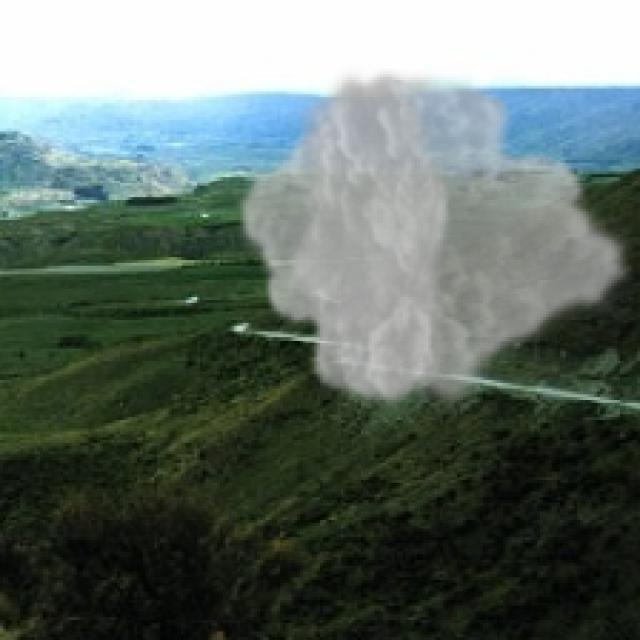Smoke: (235, 62, 634, 414)
